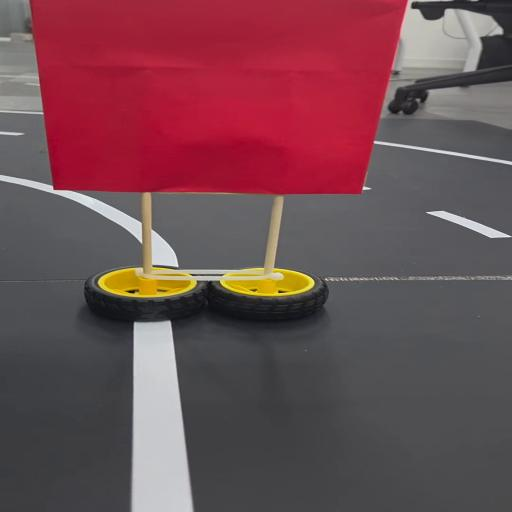Sign_A: (22, 1, 396, 331)
